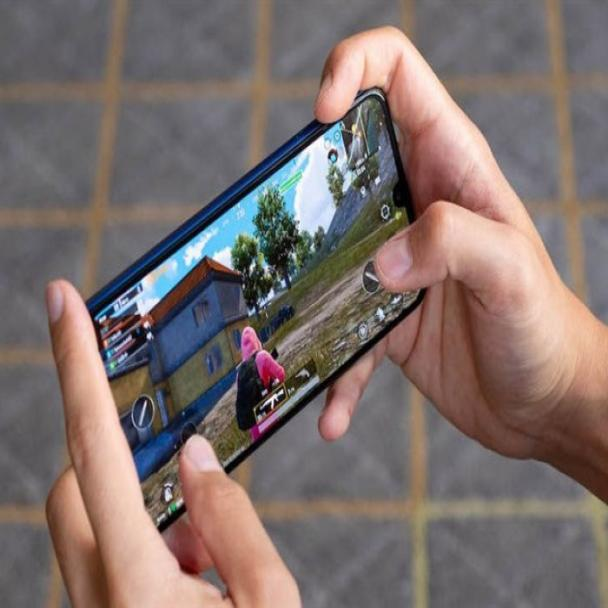Handphone: (73, 78, 438, 540)
